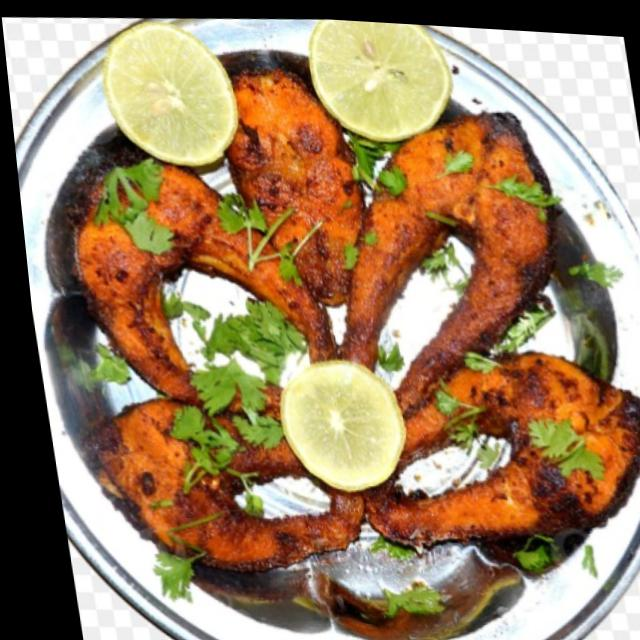FISH FRY: (76, 69, 640, 568)
